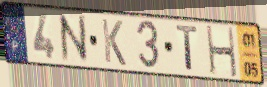3: (134, 19, 162, 73)
4: (32, 12, 57, 62)
H: (204, 24, 239, 80)
K: (100, 17, 128, 68)
N: (56, 12, 91, 64)
T: (174, 23, 200, 74)
